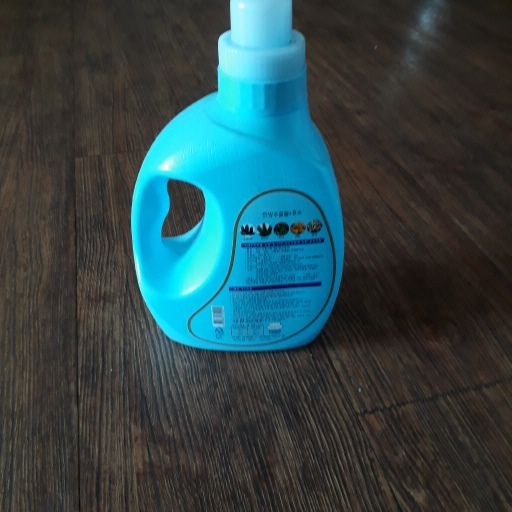Plastic_1: (130, 1, 345, 354)
